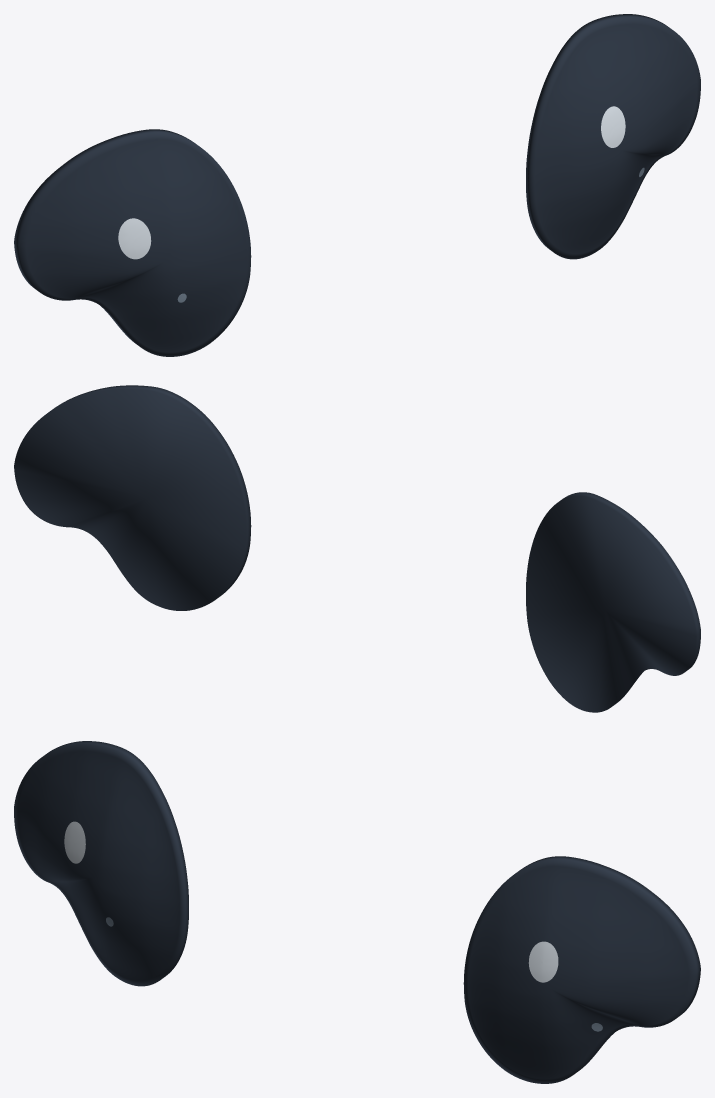
The model's file is Masculine-eyes-bean.glb.
The picture shows the model from 3 angles, top to bottom: view 1: azimuth 30°, elevation 25°; view 2: azimuth 150°, elevation 25°; view 3: azimuth 330°, elevation 25°; orthographic projection.
Visible parts, largest first — view 1: 226 eyes / Eye / smoky charcoal181, 226 eyes / Eye highlight181; view 2: 226 eyes / Eye / smoky charcoal181; view 3: 226 eyes / Eye / smoky charcoal181, 226 eyes / Eye highlight181.
Boxes of the visible parts, left/top/right/bottom form: 226 eyes / Eye / smoky charcoal181: left=14, top=14, right=700, bottom=356; 226 eyes / Eye highlight181: left=118, top=106, right=625, bottom=259; 226 eyes / Eye / smoky charcoal181: left=14, top=385, right=700, bottom=712; 226 eyes / Eye / smoky charcoal181: left=14, top=741, right=700, bottom=1083; 226 eyes / Eye highlight181: left=64, top=821, right=558, bottom=982.
Size of the model in its own units: 0.432 by 0.1342 by 0.0439.
